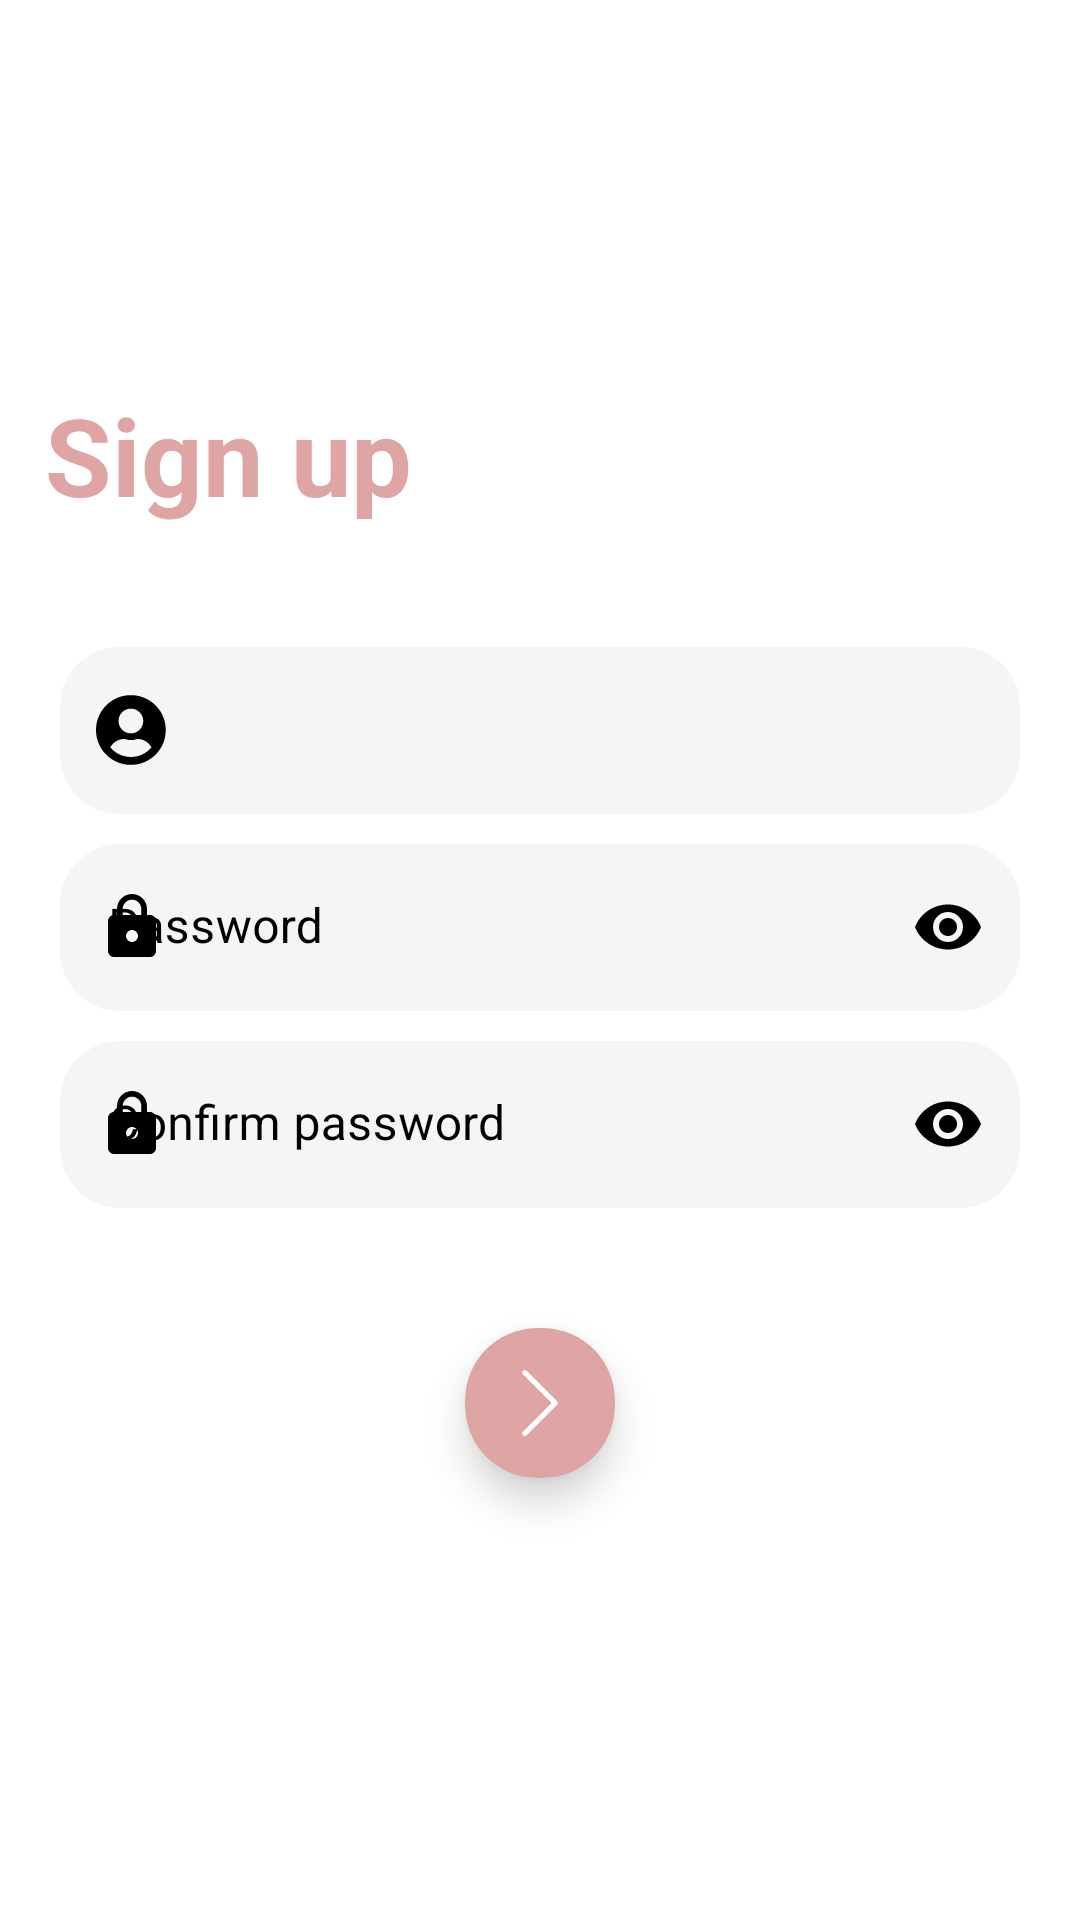

Icons on this 1080px×1920px Android screen, each with its box as box(x1, y1, x2, y2):
arrow: box(522, 1370, 558, 1436)
